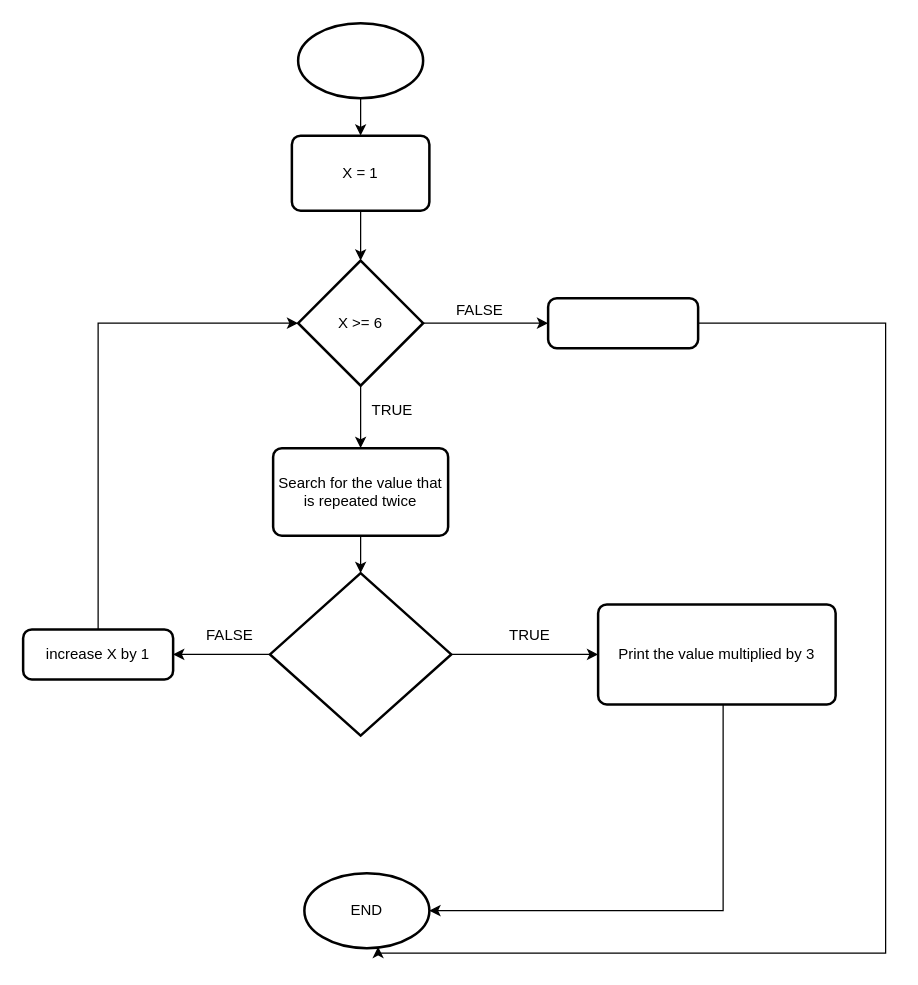
This 918x985 diagram has some shape labels left out. The shapes that lost their labels are listed below. From the top down, each one's centre as x and y in pixels, then its label:
pixel 360 60: START
pixel 622 322: Print 0
pixel 360 653: Does value exists?
